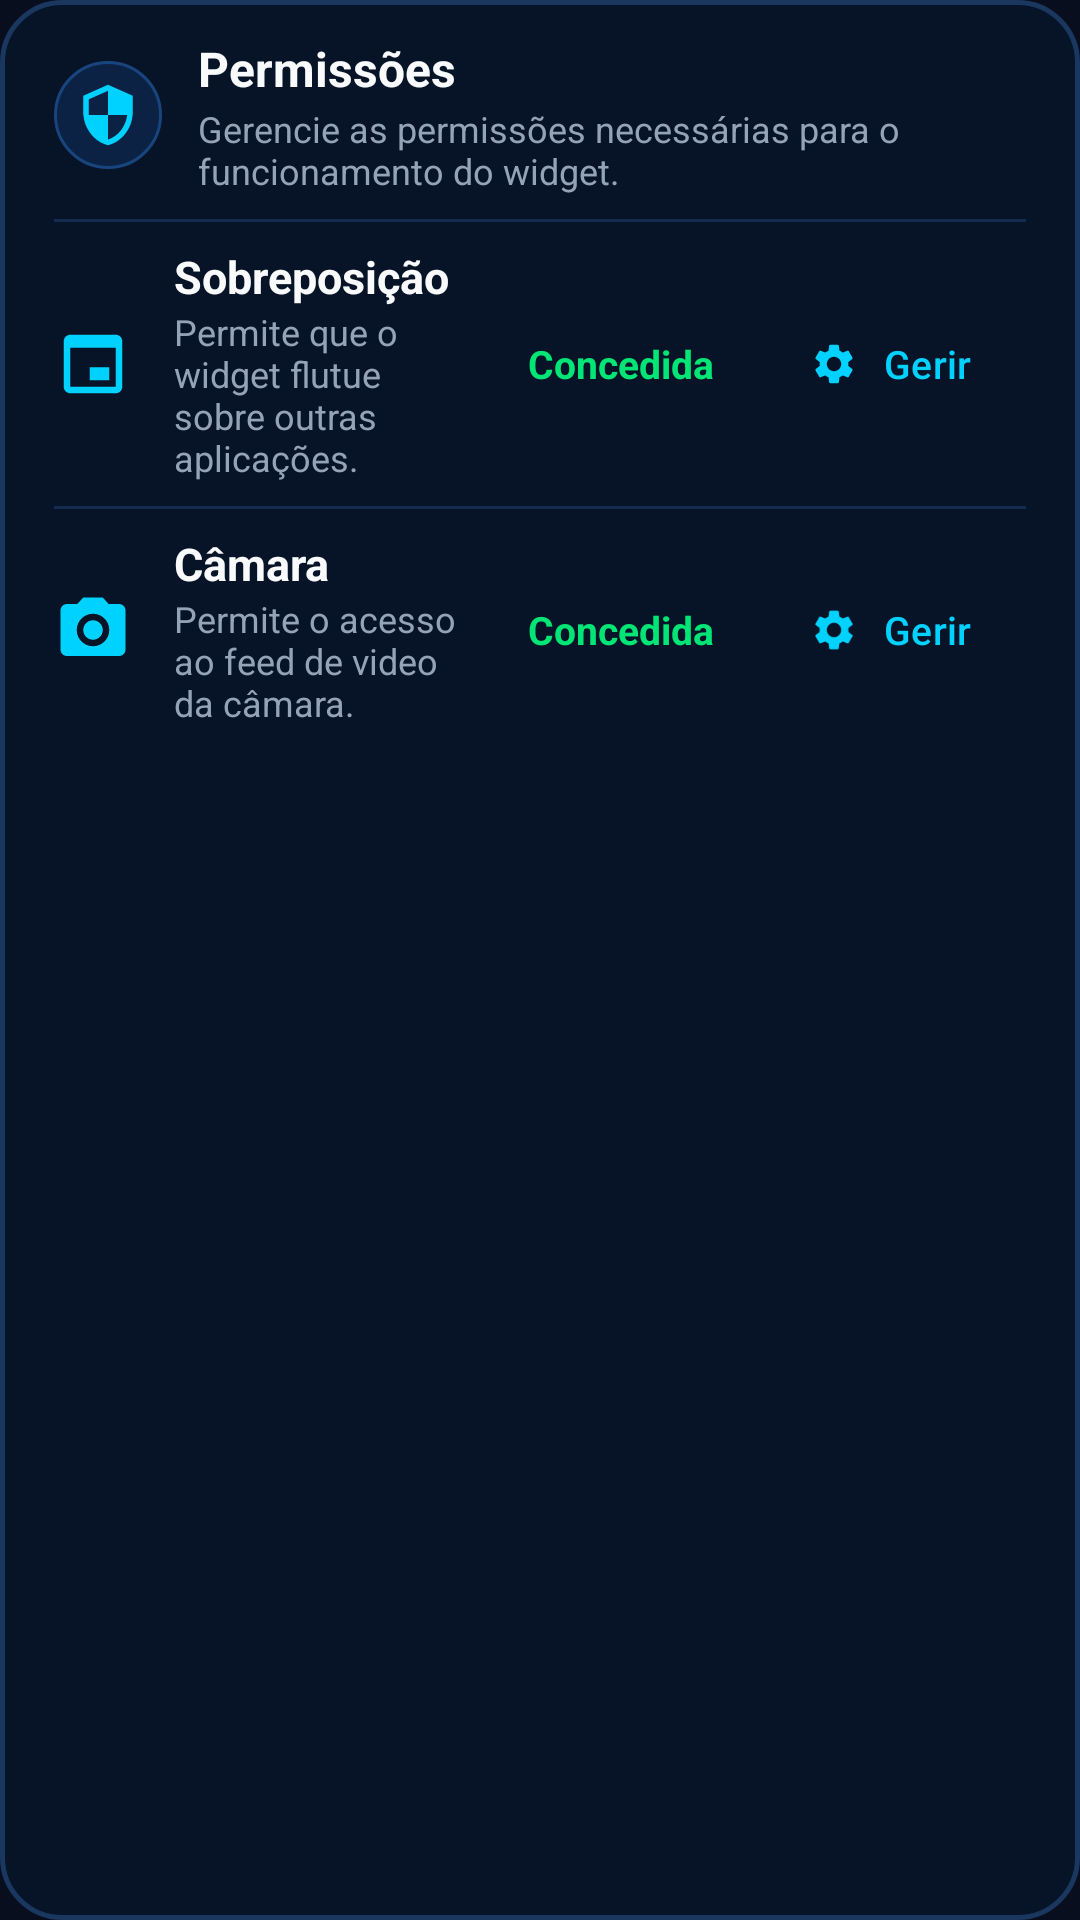

Screen size 1080*1920. Icon name, then its box in pixels as [x1=x1, y1=y1, x2=x2, y2=y2]:
camera simple: [x1=60, y1=597, x2=126, y2=656]
shield permission: [x1=54, y1=61, x2=162, y2=169]
